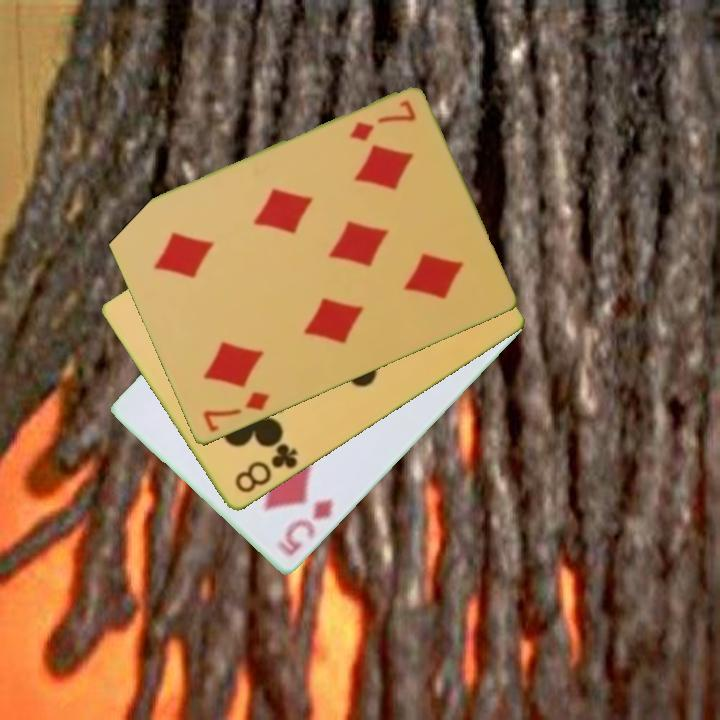5d: (274, 495, 336, 560)
7d: (199, 388, 273, 436), (345, 97, 419, 145)
8c: (231, 440, 301, 497)
